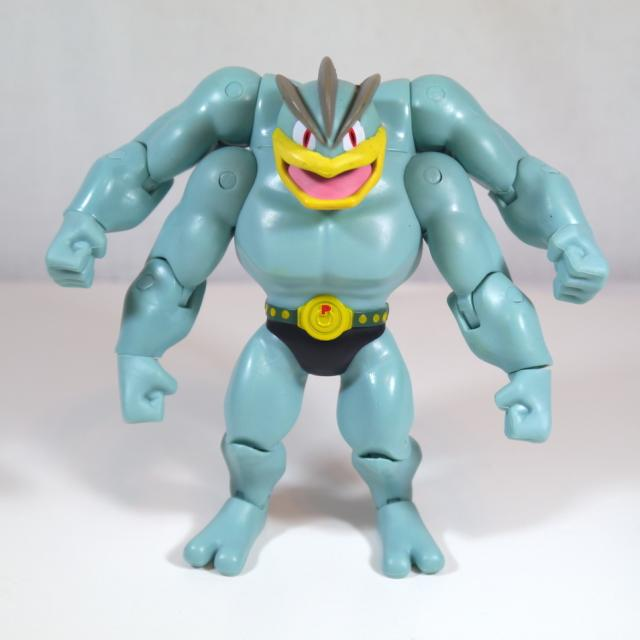Machamp: (138, 72, 494, 578)
